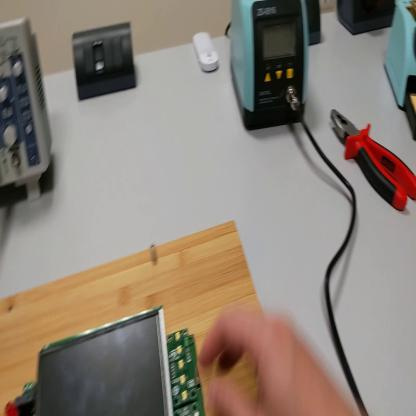hand: (200, 306, 354, 416)
low voltage board: (10, 300, 208, 416)
oscilloscope: (2, 15, 55, 204)
pliers: (331, 109, 415, 213)
socket: (337, 3, 399, 39), (307, 1, 323, 47)
welder base: (385, 1, 416, 145)
welder station: (233, 1, 306, 130)
working area: (3, 222, 267, 412)
